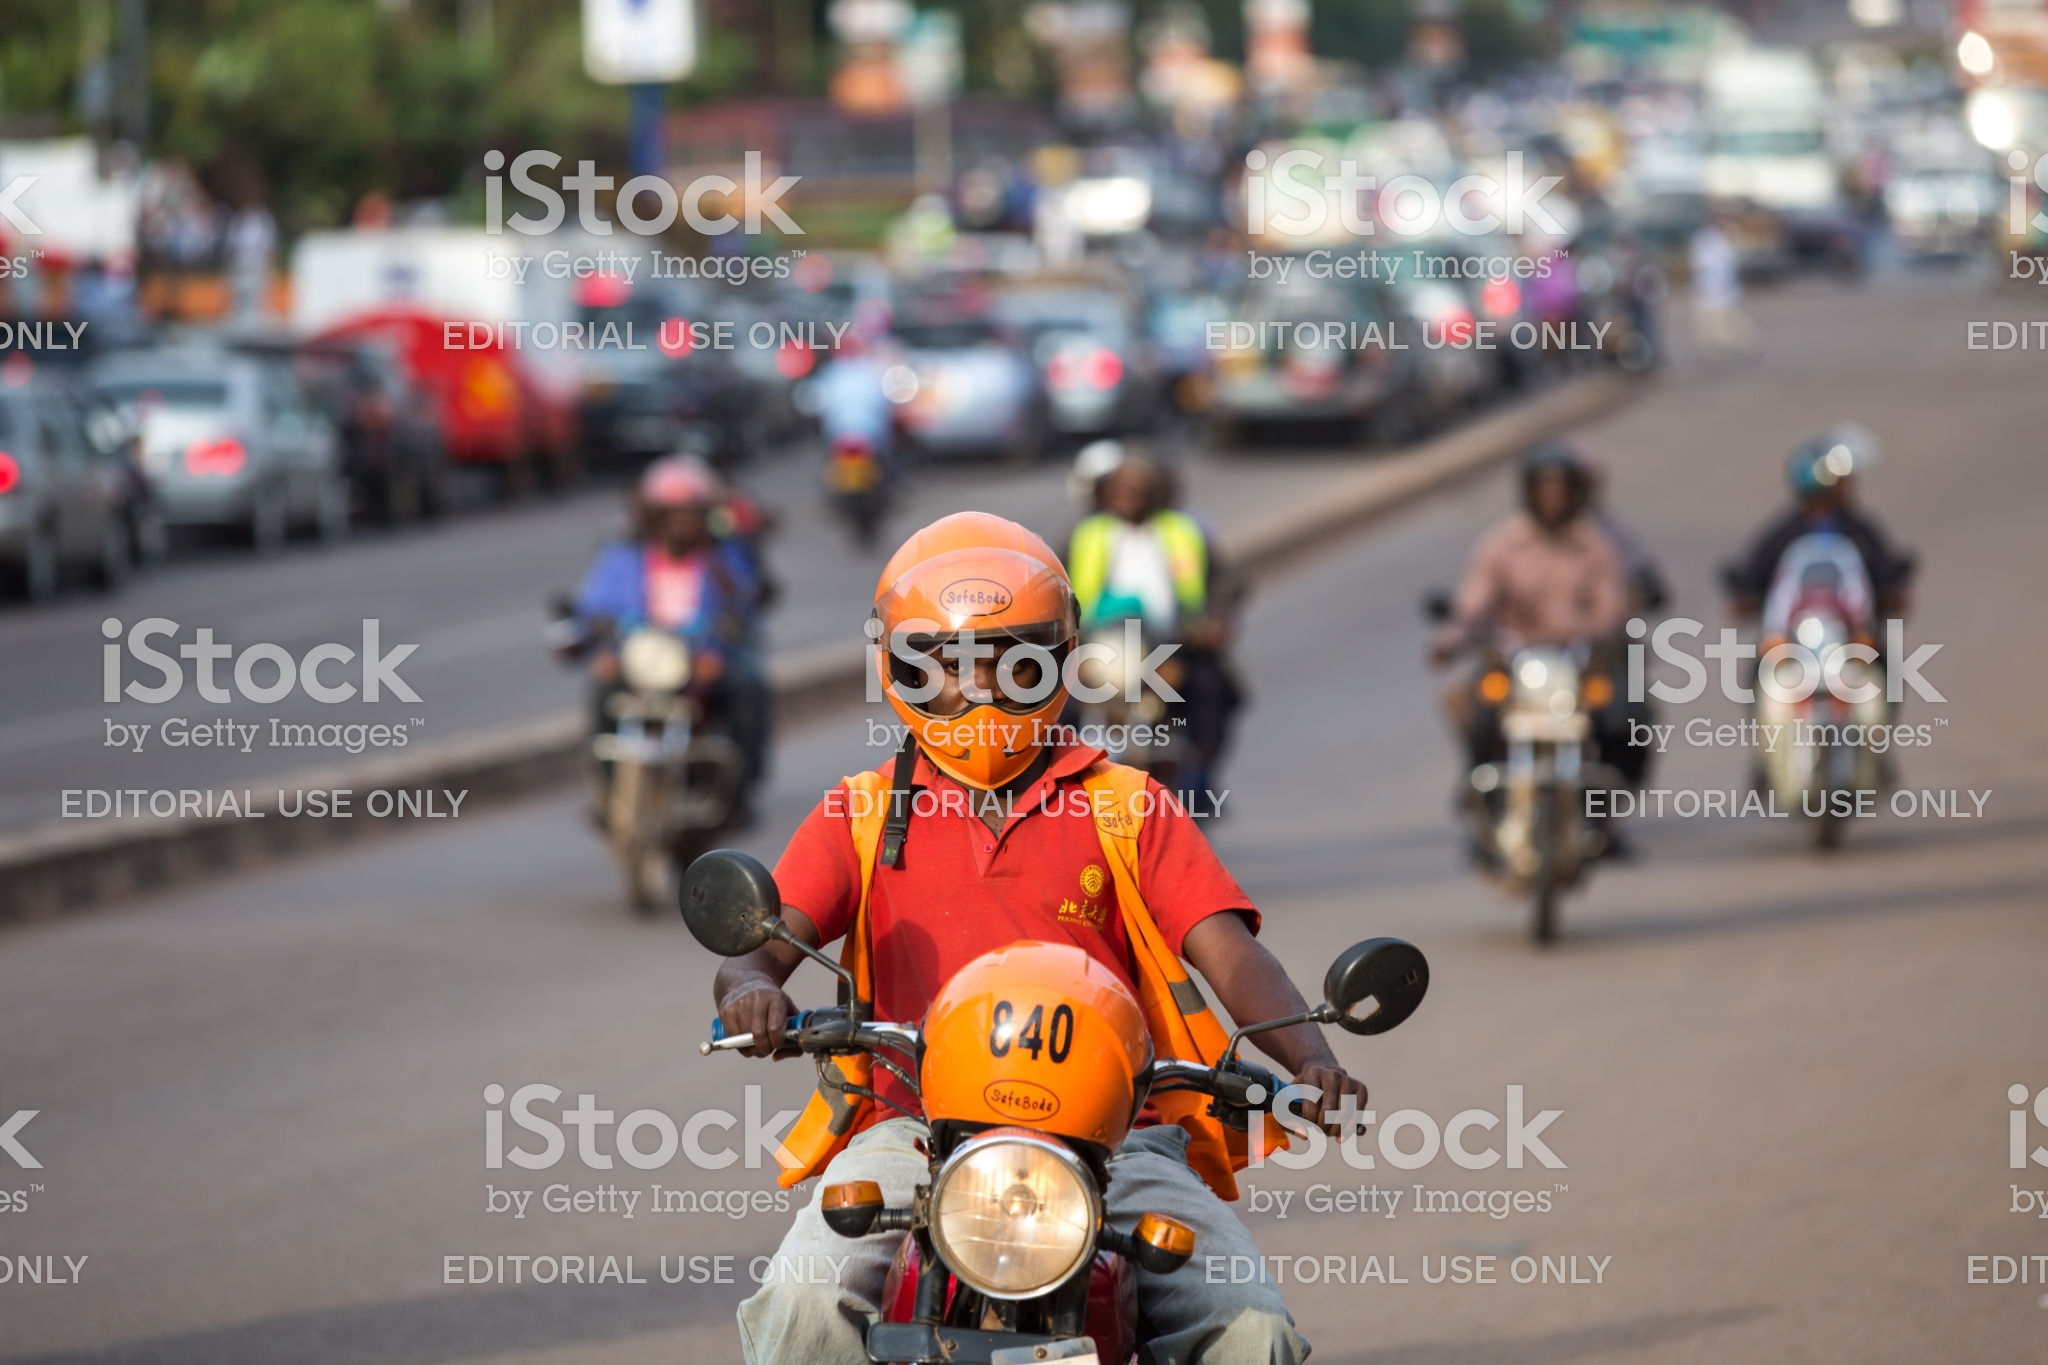helmet: (860, 527, 1096, 815)
